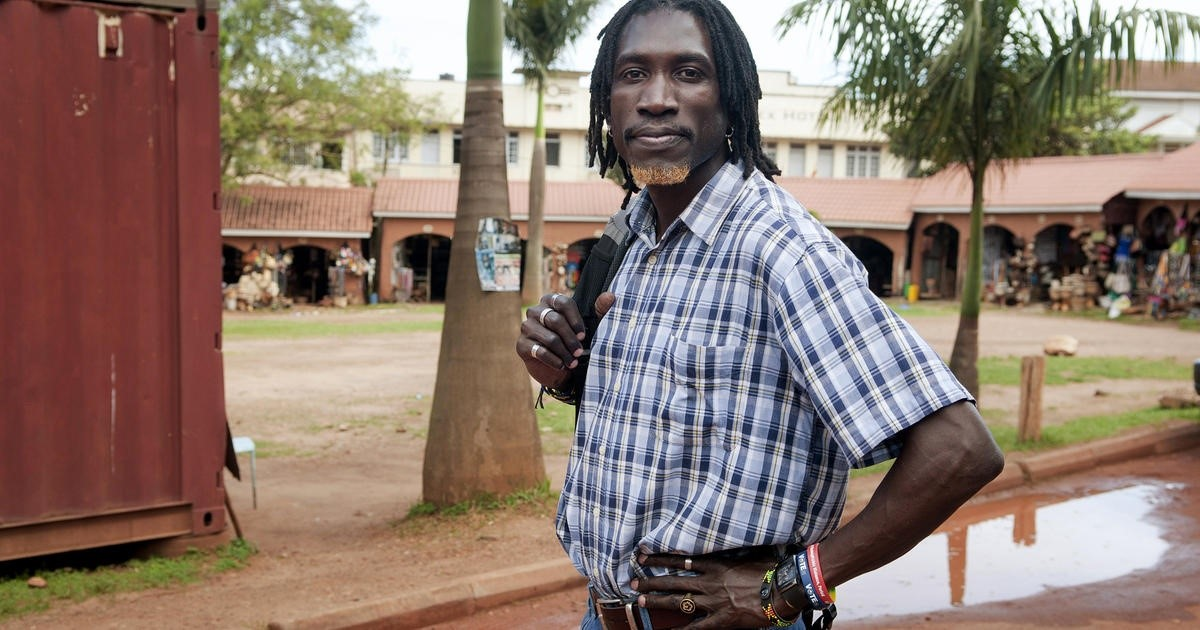face_no_mask: (590, 1, 763, 185)
